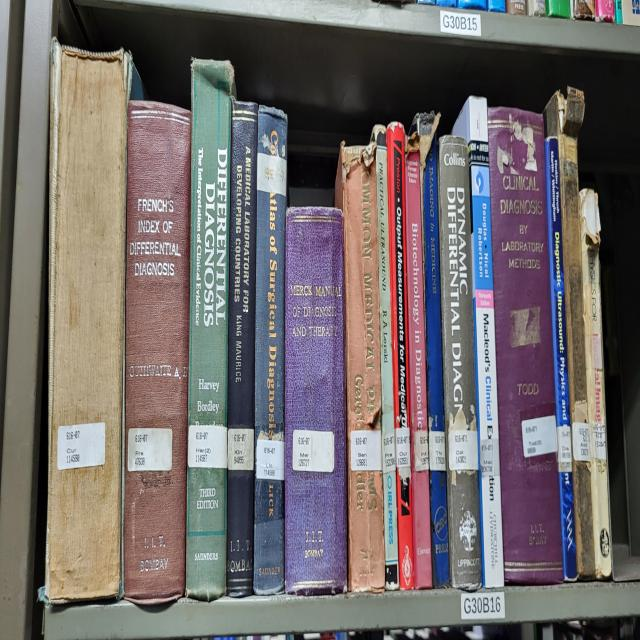Book: (45, 41, 132, 603), (489, 106, 564, 584), (124, 100, 191, 603), (544, 87, 612, 579), (335, 124, 399, 593), (186, 60, 235, 601), (454, 97, 504, 587), (285, 208, 348, 595), (439, 135, 481, 590), (411, 114, 450, 587), (254, 106, 288, 595), (226, 100, 258, 598), (545, 135, 576, 579), (386, 122, 414, 590), (372, 127, 399, 590), (405, 133, 432, 587)
Label: (58, 422, 105, 471), (128, 427, 172, 471), (292, 430, 335, 473), (188, 425, 228, 468), (521, 414, 558, 457), (350, 430, 381, 471), (449, 430, 479, 471), (256, 438, 285, 479), (228, 427, 254, 471), (572, 422, 591, 463), (556, 425, 572, 473), (480, 438, 500, 476), (429, 430, 446, 471), (381, 430, 396, 473), (395, 427, 410, 468), (414, 430, 429, 471), (592, 422, 606, 460)
